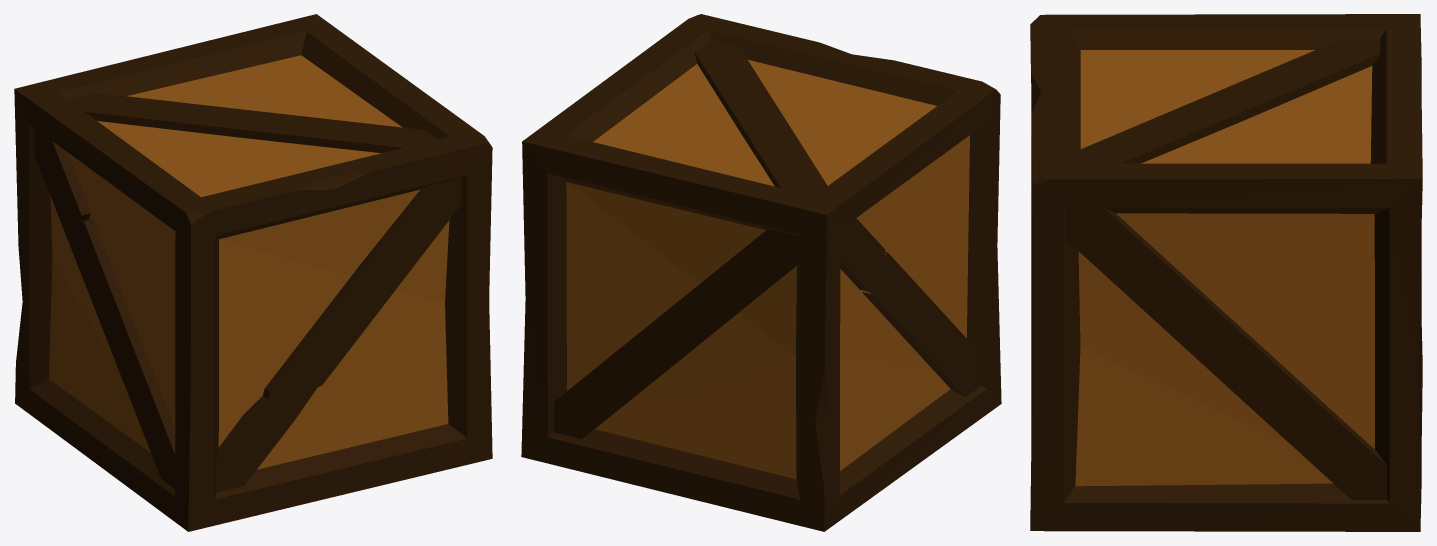
The picture shows the model from 3 angles, left to right: view 1: azimuth 30°, elevation 25°; view 2: azimuth 150°, elevation 25°; view 3: azimuth 270°, elevation 25°; orthographic projection. The views are drawn at different scales.
Parts seen in each view (by area): view 1: Box_01; view 2: Box_01; view 3: Box_01.
Part boxes in pixels (<box>): Box_01: <box>14,14,492,531</box>; Box_01: <box>521,14,1001,531</box>; Box_01: <box>1030,14,1422,531</box>.
Size of the model in its own units: 74.36 by 74.01 by 74.37.
